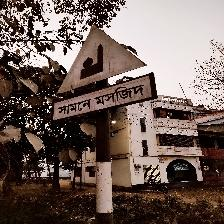Mosque in front: (53, 25, 154, 123)
